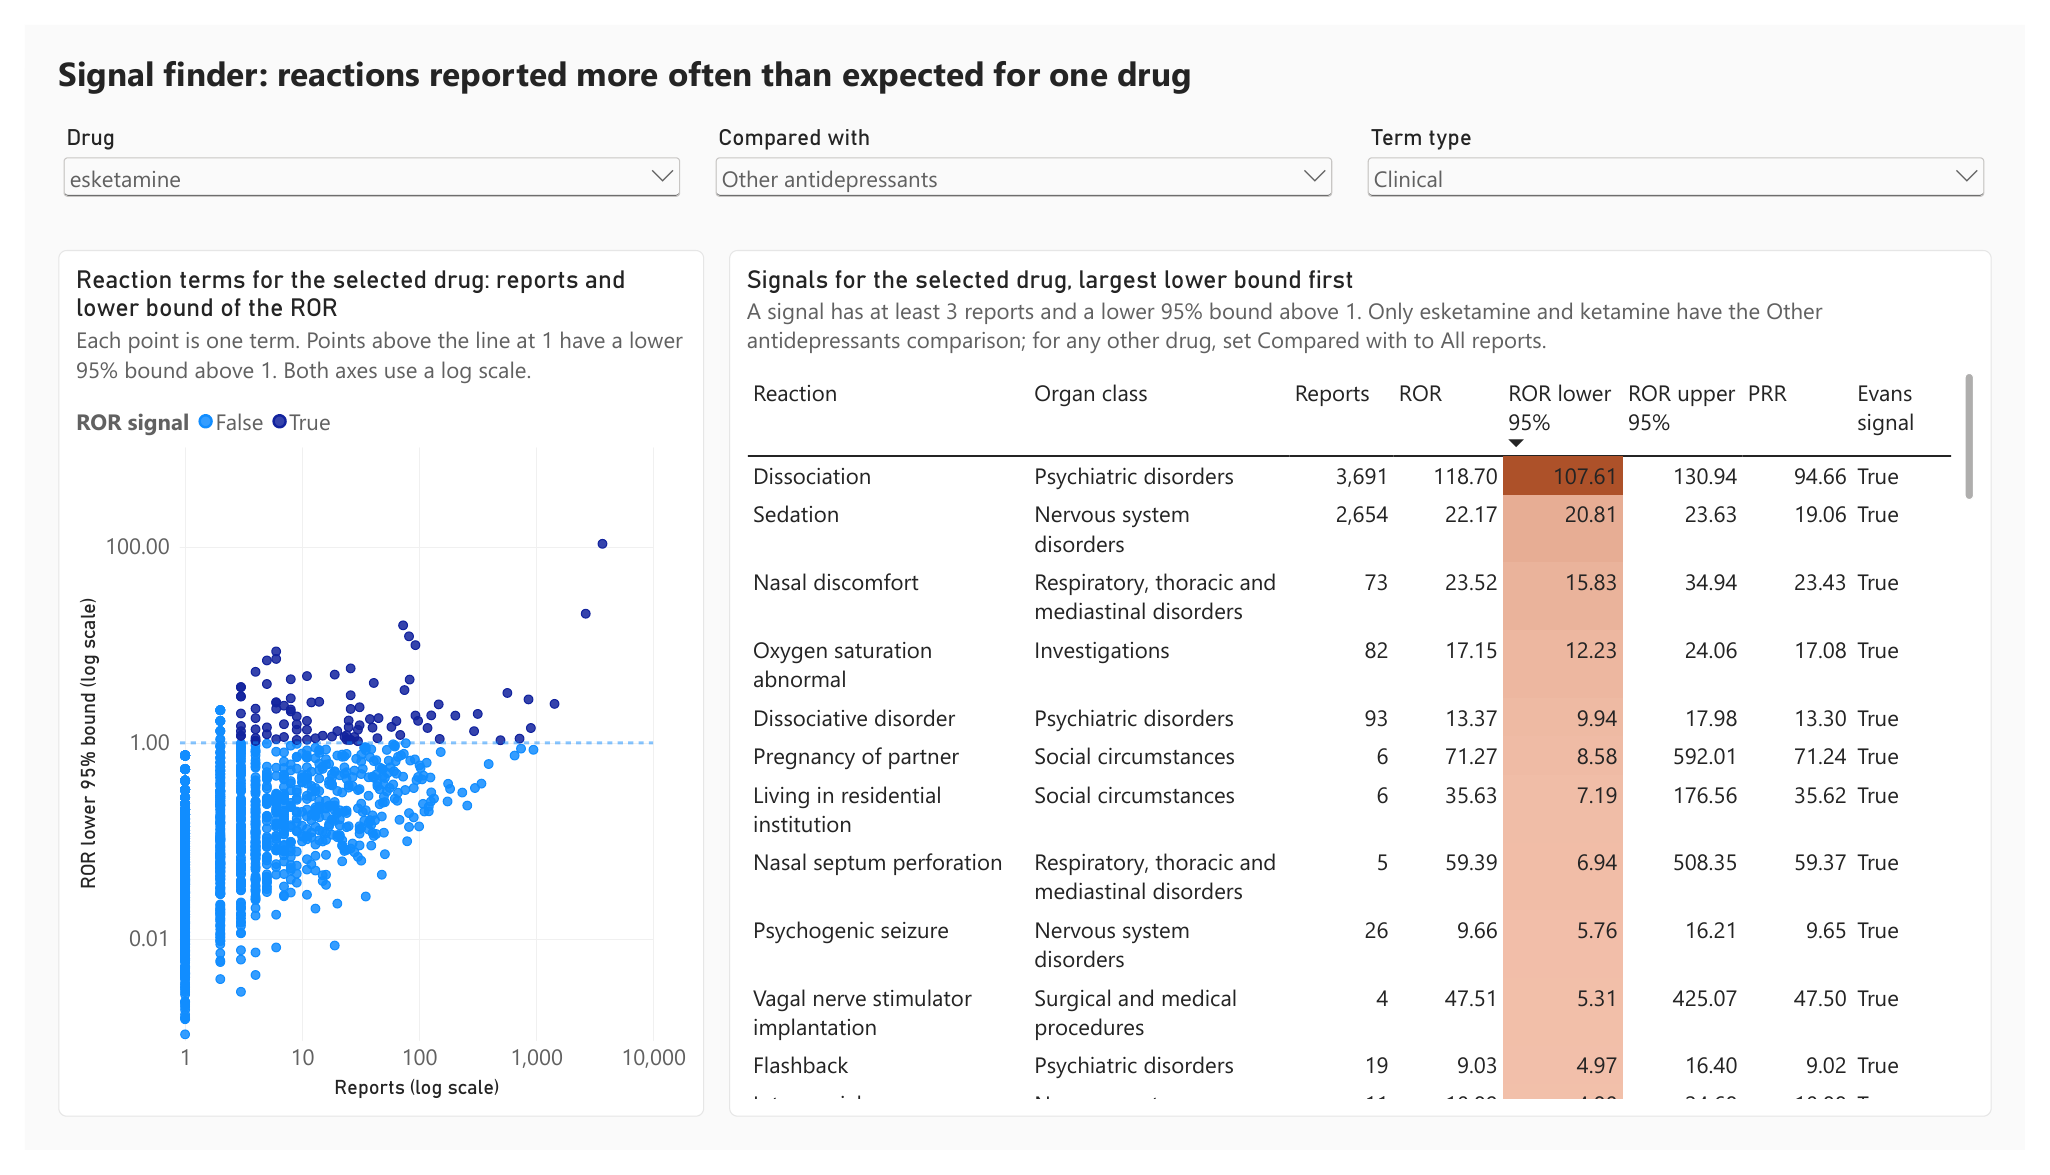

The dashboard page shown, as its layout file describes it:
{"tool":"powerbi","page":{"name":"Signal finder","canvas":[1920,1080],"ordinal":1},"visuals":[{"type":"textbox","box":[32,24,1856,64],"z":0},{"type":"slicer","fields":{"Values":["Drug.exposure"]},"box":[32,96,602,96],"z":1000},{"type":"slicer","fields":{"Values":["Signals.background"]},"box":[658,96,602,96],"z":2000},{"type":"slicer","fields":{"Values":["Signals.term_category"]},"box":[1284,96,602,96],"z":3000},{"type":"scatterChart","title":"Reaction terms for the selected drug: reports and lower bound of the ROR","fields":{"Category":["Signals.pt"],"Series":["Signals.signal_ror"],"X":["Sum(Signals.a)"],"Y":["Signals.ror_lo"]},"box":[32,216,620,832],"z":4000},{"type":"tableEx","title":"Signals for the selected drug, largest lower bound first","fields":{"Values":["Signals.pt","Signals.soc","Sum(Signals.a)","Signals.ror","Signals.ror_lo","Signals.ror_hi","Signals.prr","Signals.signal_evans"]},"box":[676,216,1212,832],"z":5000}]}

Visuals, with their boxes in screenshot pixels (x1, y1, x2, y2), scaled from the page's 1920x1080 canvas onto the 2050x1175 screenshot:
textbox: left=34, top=26, right=2016, bottom=96
slicer - Drug.exposure: left=34, top=104, right=677, bottom=209
slicer - Signals.background: left=703, top=104, right=1345, bottom=209
slicer - Signals.term_category: left=1371, top=104, right=2014, bottom=209
"Reaction terms for the selected drug: reports and lower bound of the ROR" scatterChart: left=34, top=235, right=696, bottom=1140
"Signals for the selected drug, largest lower bound first" tableEx: left=722, top=235, right=2016, bottom=1140
